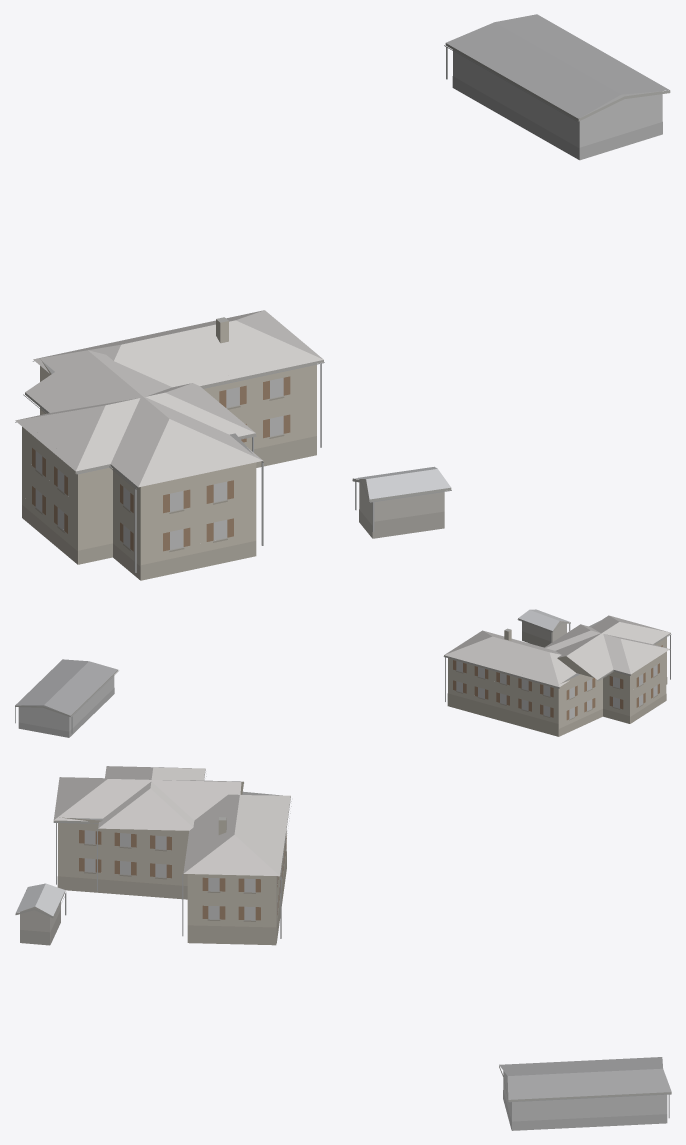
3 renders of one model, top to bottom at view 1: azimuth 30°, elevation 25°; view 2: azimuth 150°, elevation 25°; view 3: azimuth 270°, elevation 25°, orthographic. The views are drawn at different scales.
Parts seen in each view (by area): view 1: bld; view 2: bld; view 3: bld.
Boxes of the visible parts, box(x1,y1,x2,y2) form: bld: box(15, 14, 670, 580); bld: box(15, 609, 671, 737); bld: box(15, 766, 671, 1130).
Size of the model in its own units: 65.65 by 9.72 by 58.53.
